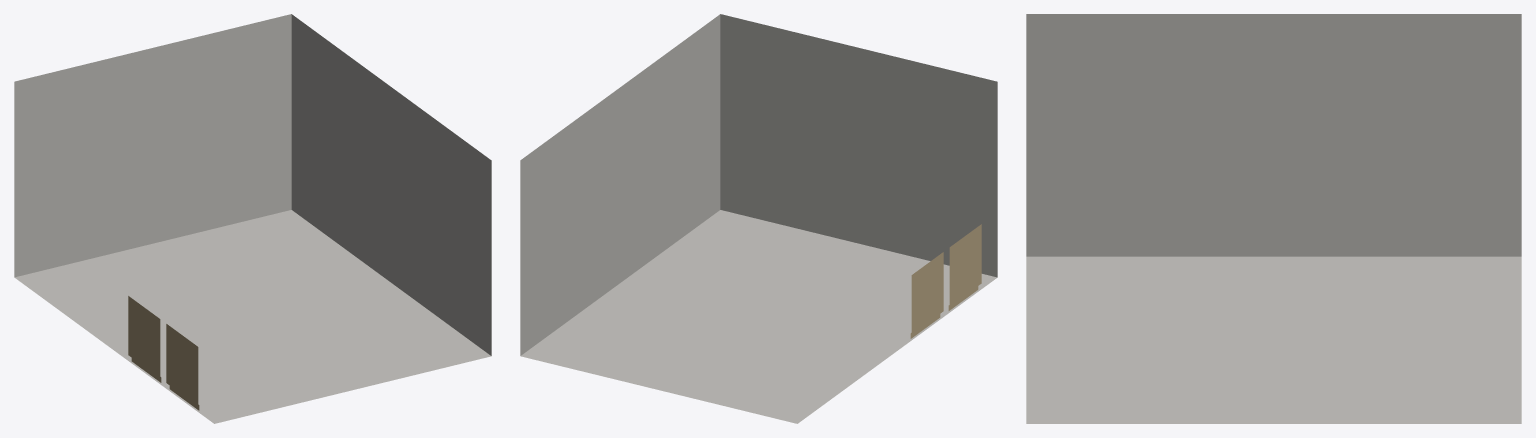
The model's file is room_structure.glb.
3 views of the same model, side by side, from view 1: azimuth 30°, elevation 25°; view 2: azimuth 150°, elevation 25°; view 3: azimuth 270°, elevation 25° (orthographic). The views are drawn at different scales.
Parts seen in each view (by area): view 1: geometry_0; view 2: geometry_0; view 3: geometry_0.
Boxes of the visible parts, bbox=[...] form: geometry_0: bbox=[14, 14, 491, 423]; geometry_0: bbox=[520, 14, 997, 423]; geometry_0: bbox=[1026, 14, 1521, 423].
Size of the model in its own units: 4 by 2.7 by 5.
